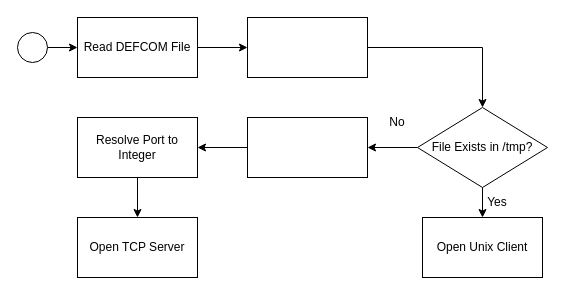
Image size: 565x295. Some labels were removed from this diagram. Here are the shapes that lost their labels. From the top down, the centre of each, then its label:
At (x=307, y=47): "Extract Application Name".
At (x=307, y=147): "Resolve FQDN to IP".
